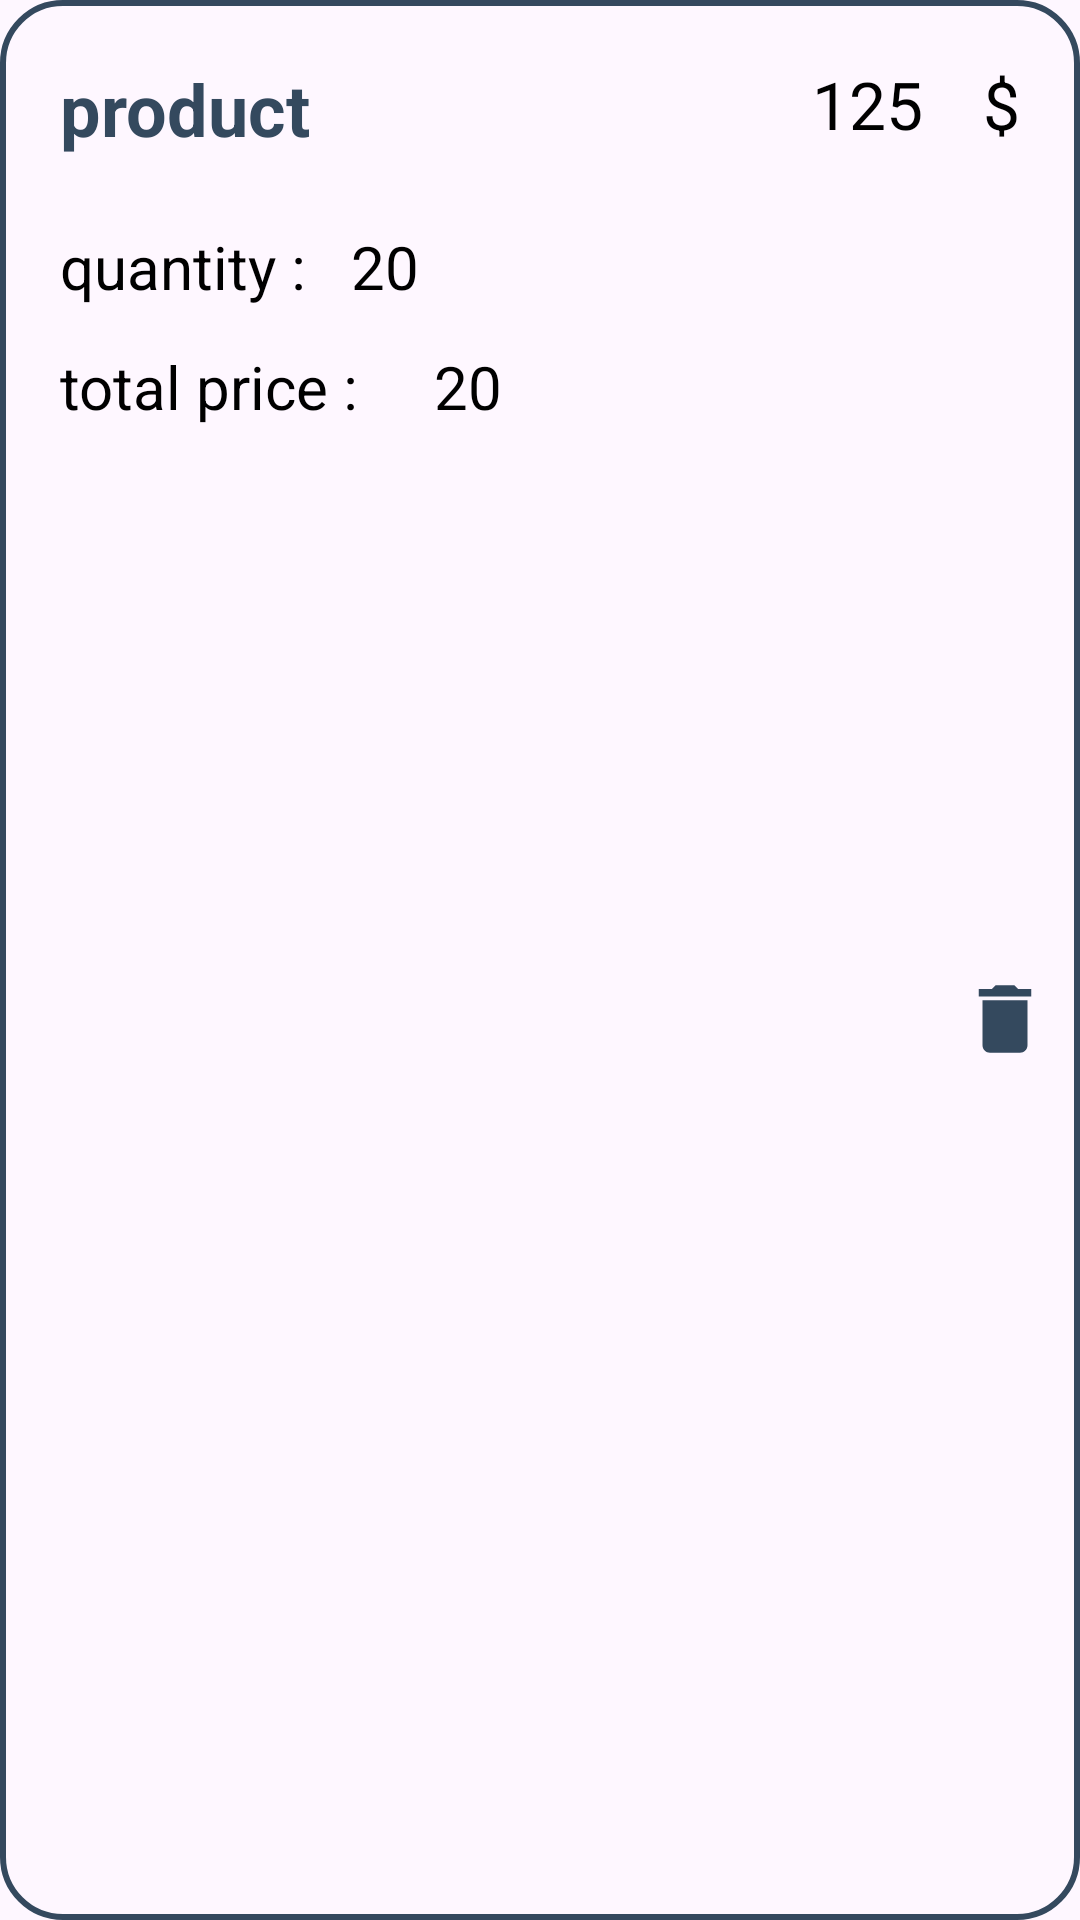

Icons on this 1080px×1920px Android screen, each with the point to tap as point (x, y):
delete: point (1005, 1019)
